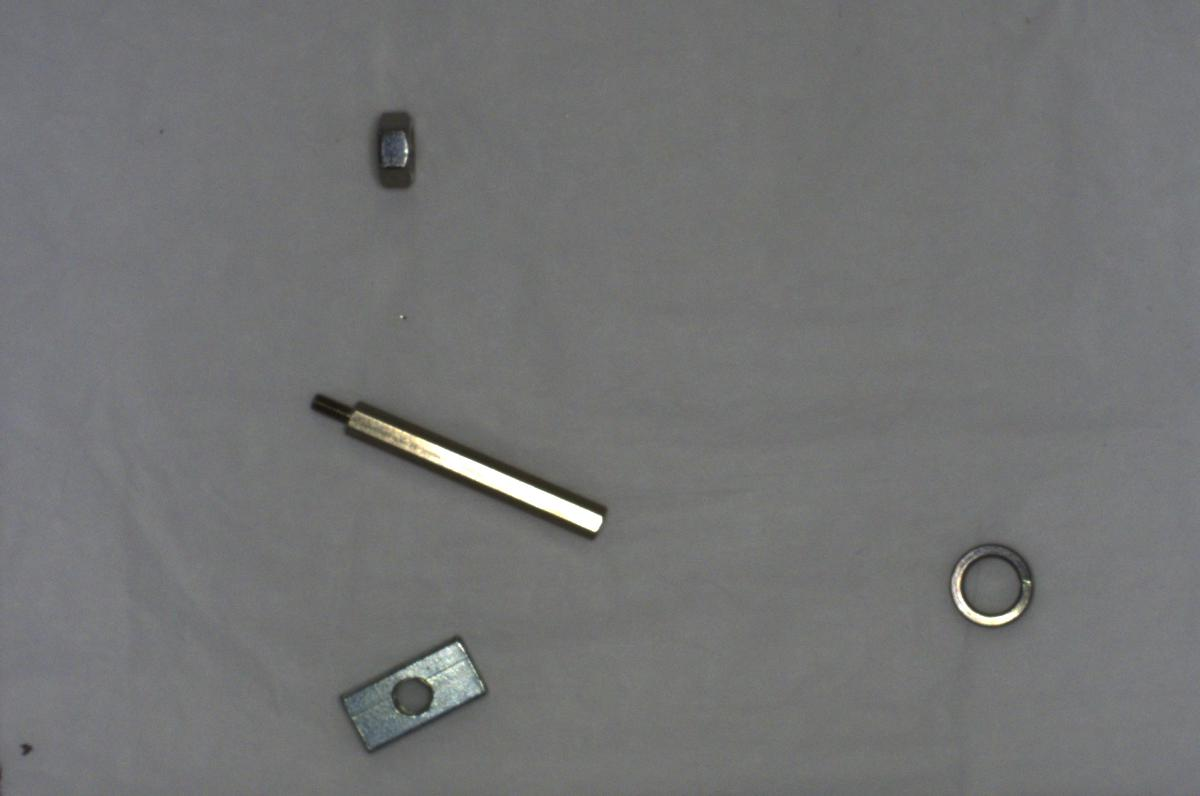Hexagon nut: (367, 101, 422, 194)
Hexagonal steel column: (295, 383, 612, 541)
Rectangular nut: (325, 626, 498, 755)
Spring washer: (939, 533, 1042, 632)
